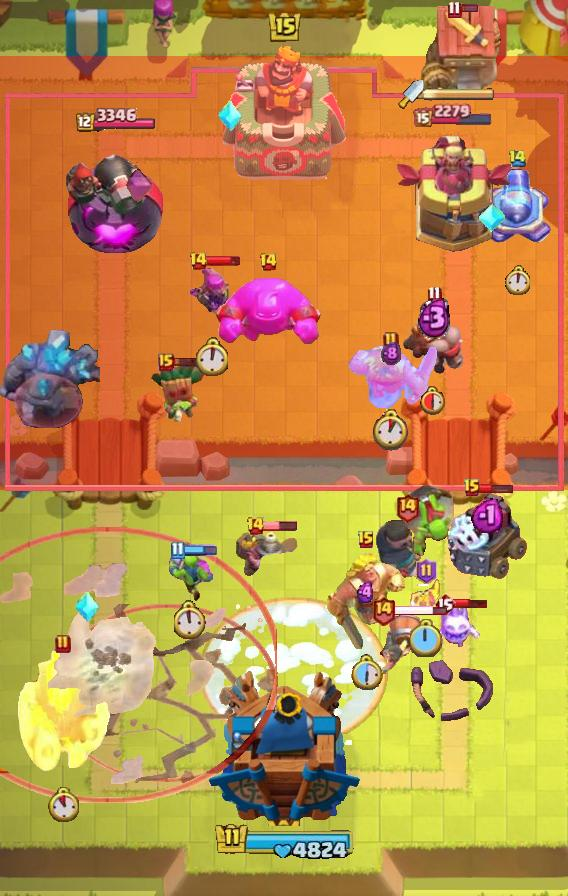bandit: (235, 527, 299, 581)
bar: (391, 132, 515, 256)
bar-level: (397, 480, 457, 556)
cannoneer-tower: (0, 328, 100, 428)
clock: (210, 821, 358, 863)
clone: (212, 275, 324, 347)
electro-spirit: (417, 297, 452, 340), (471, 496, 503, 533), (355, 580, 377, 603), (381, 341, 401, 366)
elite-barbarian: (401, 299, 467, 375)
elixir: (371, 409, 411, 451), (194, 336, 228, 375), (173, 600, 207, 639), (409, 619, 443, 657), (349, 653, 383, 691), (49, 786, 79, 821), (420, 385, 448, 415), (504, 265, 530, 295)
emote: (393, 604, 448, 617), (171, 356, 209, 368), (205, 255, 241, 267), (262, 520, 298, 532), (182, 544, 218, 556), (453, 598, 489, 609), (478, 483, 513, 494), (461, 3, 480, 13)
evolution-symbol: (187, 266, 235, 328)
giant-skeleton: (15, 646, 111, 774)
goblin-barrel: (150, 361, 208, 427)
goblin-hut: (324, 549, 408, 653), (345, 342, 437, 408)
golem: (444, 491, 530, 581)
guard: (54, 605, 278, 784)
heal-spirit: (410, 579, 442, 611)
king-tower: (207, 669, 361, 826), (223, 43, 345, 181)
king-tower-bar: (424, 87, 496, 101)
knight: (373, 612, 423, 676)
mirror: (434, 601, 482, 649)
pad_2: (477, 203, 507, 233), (217, 100, 243, 132), (74, 591, 100, 623)
phoenix-big: (200, 597, 388, 745)
royal-ghost: (0, 527, 276, 803)
royal-hog: (373, 519, 441, 595)
royal-recruit: (480, 165, 554, 249)
selected: (73, 108, 155, 134), (414, 101, 495, 126)
skeleton-king-skill: (125, 168, 153, 204)
sparky: (421, 5, 507, 103)
text: (396, 492, 421, 523), (371, 595, 396, 626), (415, 558, 437, 584), (434, 592, 456, 616), (258, 252, 278, 272), (189, 251, 208, 271), (246, 516, 265, 536), (509, 148, 528, 167), (463, 478, 481, 498), (357, 530, 375, 550), (383, 331, 399, 351), (55, 634, 71, 654), (158, 353, 174, 371), (447, 1, 462, 20), (170, 540, 185, 559), (427, 285, 442, 303)
tower-bar: (64, 138, 164, 256)
zap: (167, 546, 213, 602)
